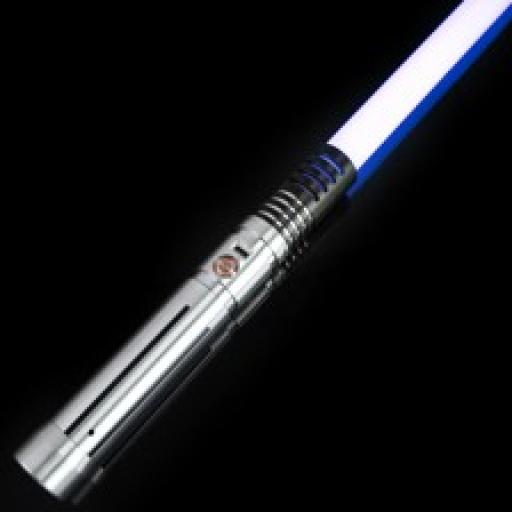lightsaber: (7, 0, 512, 510)
